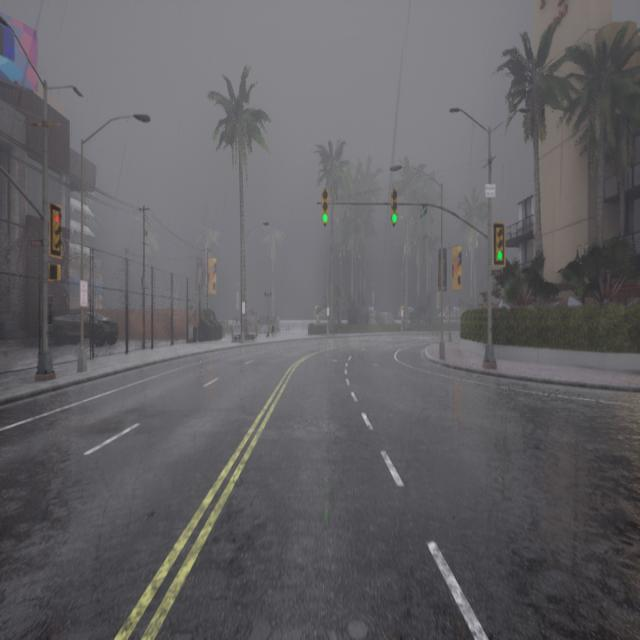6: (53, 210, 62, 226)
9: (51, 203, 62, 255), (494, 224, 505, 267), (390, 187, 399, 227), (321, 187, 329, 227)
bien_hieu_lenh: (496, 248, 504, 262), (392, 211, 398, 224), (322, 213, 328, 224)
